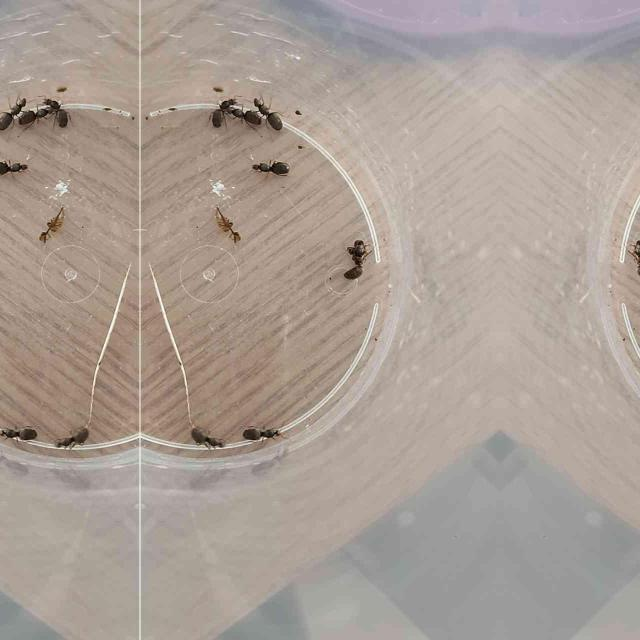Lasius: (252, 96, 292, 132), (336, 240, 372, 280), (205, 86, 231, 128), (244, 418, 286, 444), (49, 86, 75, 128), (248, 155, 290, 179), (0, 96, 26, 132), (0, 418, 36, 444), (54, 427, 94, 449), (187, 427, 226, 449), (223, 102, 264, 121), (16, 102, 56, 121), (0, 155, 30, 179), (352, 234, 372, 262), (628, 240, 640, 278), (628, 232, 640, 262)
